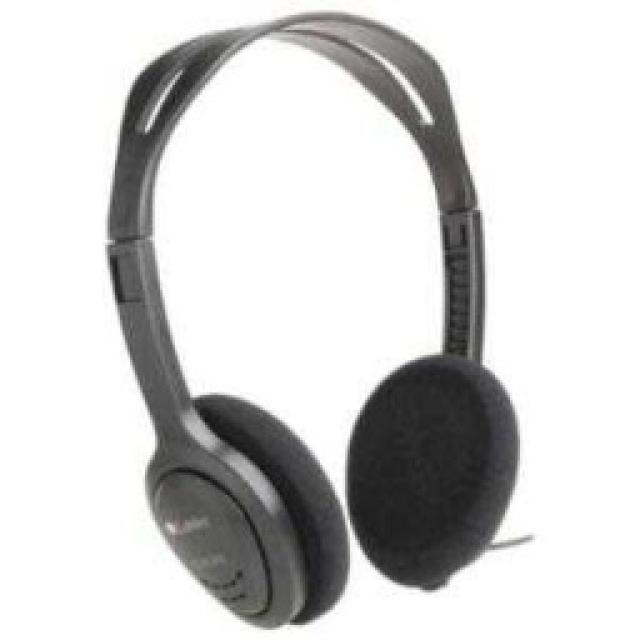headphones: (103, 8, 525, 628)
